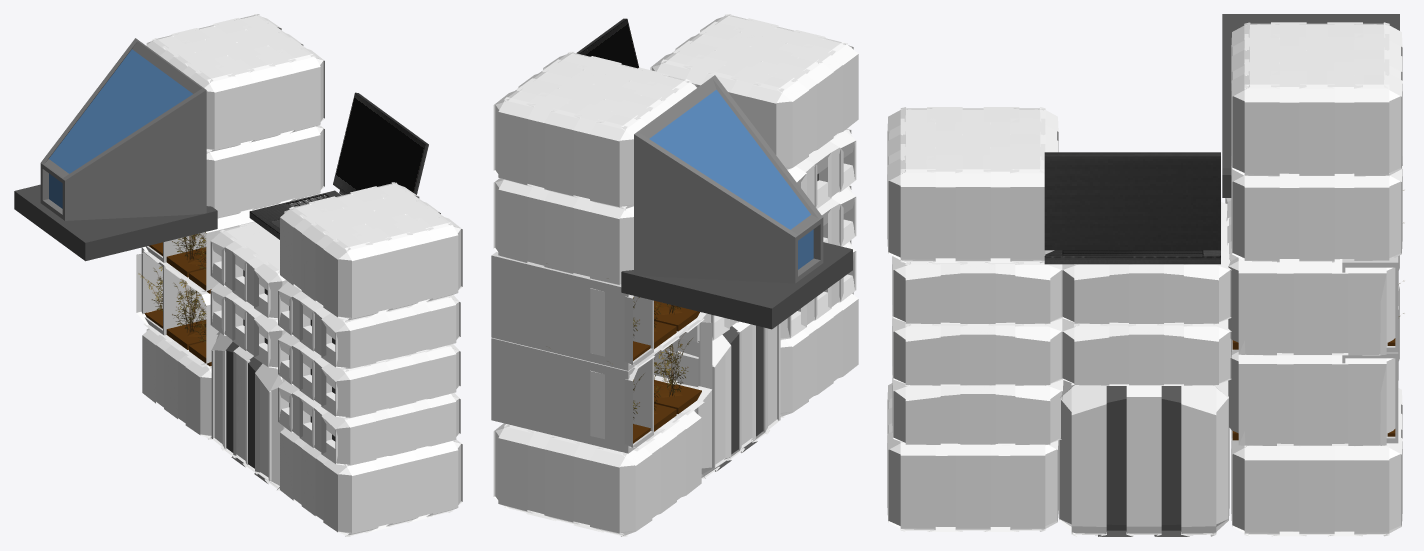
The model's file is biolab.glb.
3 views of the same model, side by side, from view 1: azimuth 30°, elevation 25°; view 2: azimuth 150°, elevation 25°; view 3: azimuth 270°, elevation 25° (orthographic). The views are drawn at different scales.
Parts seen in each view (by area): view 1: Cube.032, Cube.025, Cube.046, Cube.029, Cube.039, Cube.040, Cube.041, Cube.045, Cube.024, LaptopScreen_M_Laptop_0.001, Cube.031, Cube.034 (+9 smaller); view 2: Cube.032, Cube.046, Cube.025, Cube.043, Plane.003, Plane.002, Cube.045, Cube.024, Cube.031, Cube.029, Cube.035, Cube.040 (+7 smaller); view 3: Cube.046, Cube.024, Cube.025, LaptopScreen_M_Laptop_0.001, Cube.043, Cube.021, Cube.029, Cube.035, Cube.045, Cube.034, Cube.039, Cube.030 (+6 smaller).
Boxes of the visible parts, <box> form: Cube.032: <box>40,38,206,220</box>; Cube.025: <box>280,182,462,321</box>; Cube.046: <box>146,14,324,153</box>; Cube.029: <box>280,427,462,536</box>; Cube.039: <box>278,330,460,418</box>; Cube.040: <box>278,280,460,369</box>; Cube.041: <box>278,378,460,465</box>; Cube.045: <box>206,125,324,218</box>; Cube.024: <box>211,332,284,490</box>; LaptopScreen_M_Laptop_0.001: <box>333,92,428,195</box>; Cube.031: <box>14,184,217,261</box>; Cube.034: <box>210,222,285,320</box>; Cube.032: <box>634,75,823,283</box>; Cube.046: <box>493,51,696,210</box>; Cube.025: <box>650,14,858,169</box>; Cube.043: <box>493,410,701,536</box>; Plane.003: <box>491,338,653,453</box>; Plane.002: <box>491,252,653,370</box>; Cube.045: <box>493,178,633,285</box>; Cube.024: <box>668,321,780,478</box>; Cube.031: <box>621,242,852,329</box>; Cube.029: <box>780,292,858,417</box>; Cube.035: <box>590,318,712,451</box>; Cube.040: <box>787,128,856,208</box>; Cube.046: <box>1231,22,1402,176</box>; Cube.024: <box>1058,380,1229,536</box>; Cube.025: <box>887,107,1058,263</box>; LaptopScreen_M_Laptop_0.001: <box>1044,152,1220,253</box>; Cube.043: <box>1231,388,1402,536</box>; Cube.021: <box>1225,198,1399,355</box>; Cube.029: <box>887,383,1058,531</box>; Cube.035: <box>1228,285,1399,445</box>; Cube.045: <box>1231,156,1402,262</box>; Cube.034: <box>1061,202,1231,324</box>; Cube.039: <box>892,305,1062,385</box>; Cube.030: <box>1061,318,1232,385</box>.
Size of the model in its own units: 5.32 by 6.74 by 7.06.
8 materials, 2 textured.
